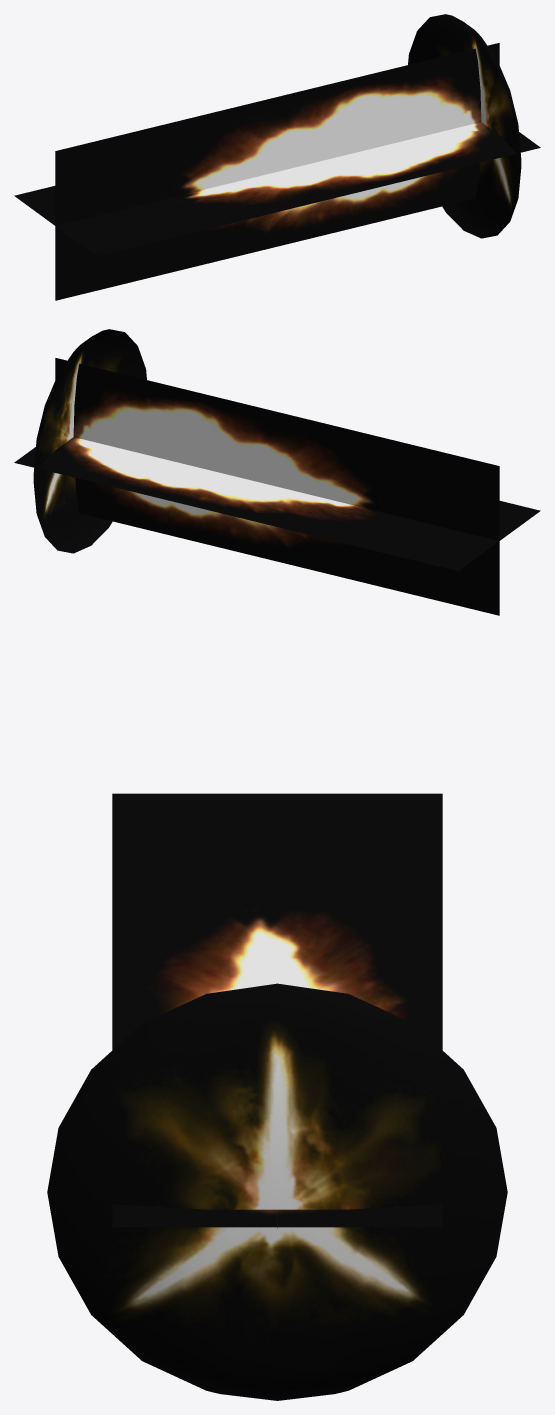
File: MuzzleFlash.fbx
The picture shows the model from 3 angles, top to bottom: view 1: azimuth 30°, elevation 25°; view 2: azimuth 150°, elevation 25°; view 3: azimuth 270°, elevation 25°; orthographic projection. The views are drawn at different scales.
Visible parts, largest first — view 1: Sphere; view 2: Sphere; view 3: Sphere.
Part boxes in pixels (x1,y1,x2,y2): Sphere: (14,14,540,300); Sphere: (14,329,540,615); Sphere: (47,793,507,1400).
Bounding box in the file's own units: 4.31 × 1.93 × 1.93.
Materials: 1 (1 with a texture image).
